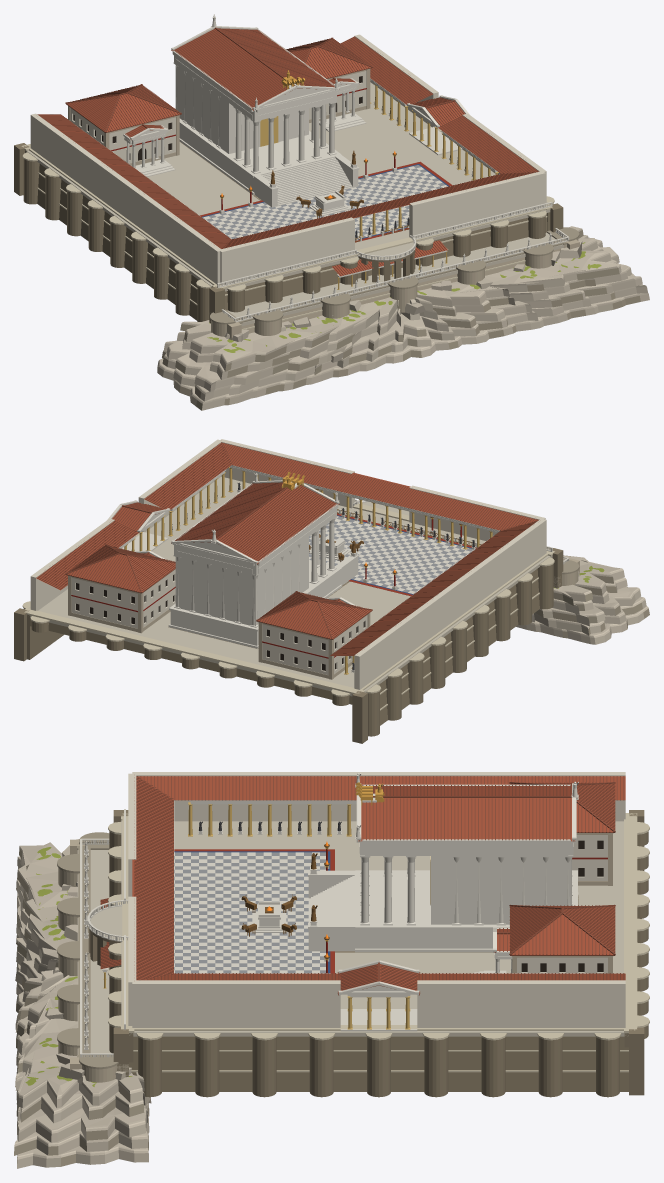
Rendered from rome_apollo.glb.
The picture shows the model from 3 angles, top to bottom: view 1: azimuth 30°, elevation 25°; view 2: azimuth 150°, elevation 25°; view 3: azimuth 270°, elevation 25°; orthographic projection. The views are drawn at different scales.
Parts seen in each view (by area): view 1: rome_apollo; view 2: rome_apollo; view 3: rome_apollo.
Boxes of the visible parts, bbox=[...] form: rome_apollo: bbox=[14, 14, 649, 410]; rome_apollo: bbox=[14, 439, 649, 743]; rome_apollo: bbox=[14, 772, 649, 1168].
Bounding box in the file's own units: 125 × 49.71 × 116.
